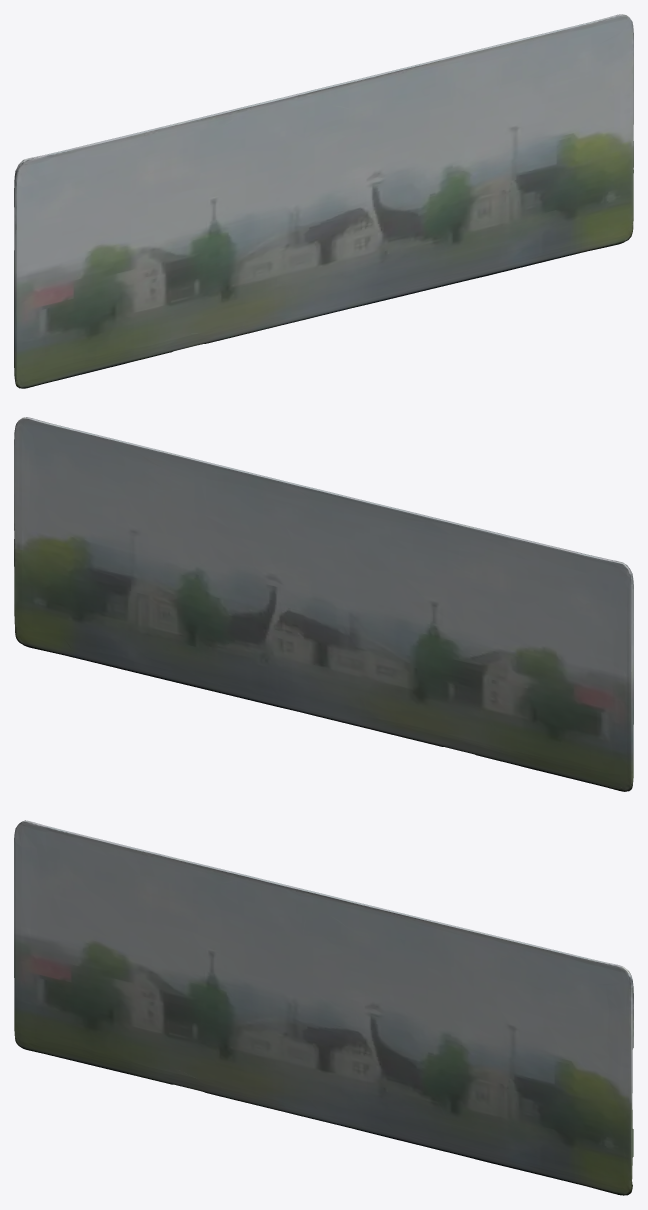
3 views of the same model, one above another, from view 1: azimuth 30°, elevation 25°; view 2: azimuth 150°, elevation 25°; view 3: azimuth 330°, elevation 25° (orthographic).
Visible parts, largest first — view 1: world; view 2: world; view 3: world.
Boxes of the visible parts, x1,y1,x2,y2 form: world: (14, 14, 633, 388); world: (14, 417, 633, 791); world: (14, 820, 633, 1195).
Size of the model in its own units: 1 by 0.3547 by 0.00758.
1 material, 1 textured.
